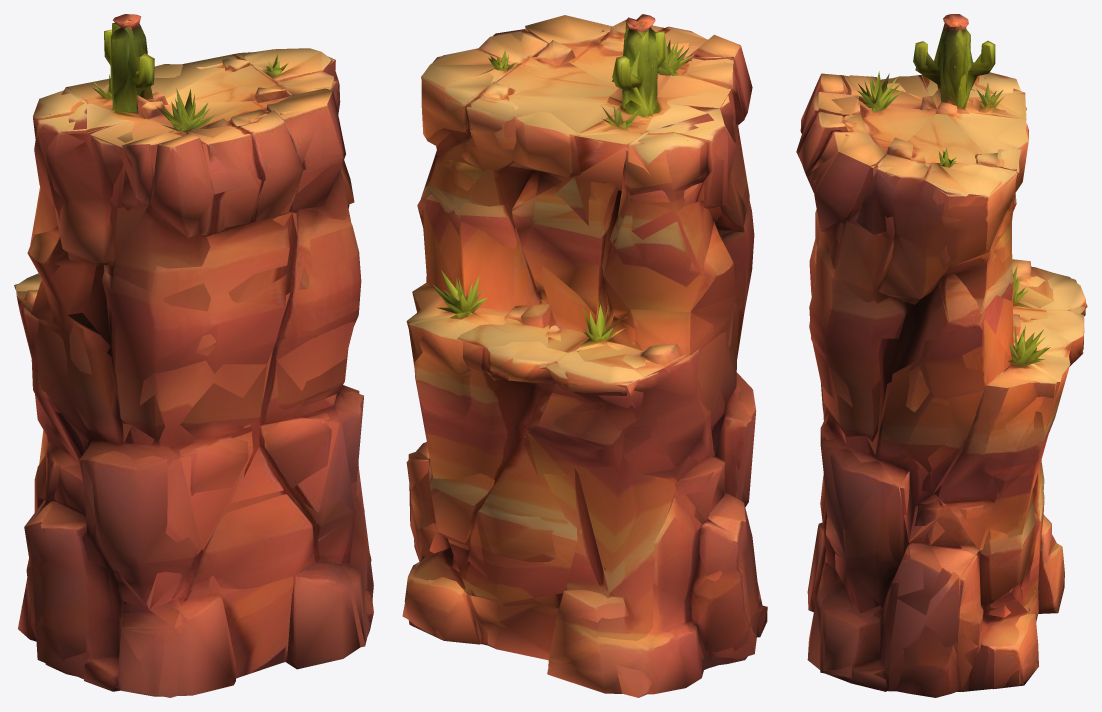
File: paredao.glb
3 views of the same model, side by side, from view 1: azimuth 30°, elevation 25°; view 2: azimuth 150°, elevation 25°; view 3: azimuth 270°, elevation 25° (orthographic). The views are drawn at different scales.
Parts seen in each view (by area): view 1: paredao, paredao-lod; view 2: paredao, paredao-lod; view 3: paredao, paredao-lod.
Boxes of the visible parts, x1,y1,x2,y2 form: paredao: (15, 14, 373, 696); paredao-lod: (14, 19, 373, 697); paredao: (404, 14, 767, 694); paredao-lod: (402, 15, 762, 697); paredao: (796, 14, 1085, 697); paredao-lod: (799, 23, 1087, 691).
Bounding box in the file's own units: 0.5597 × 1 × 0.4564.
Materials: 1 (1 with a texture image).
